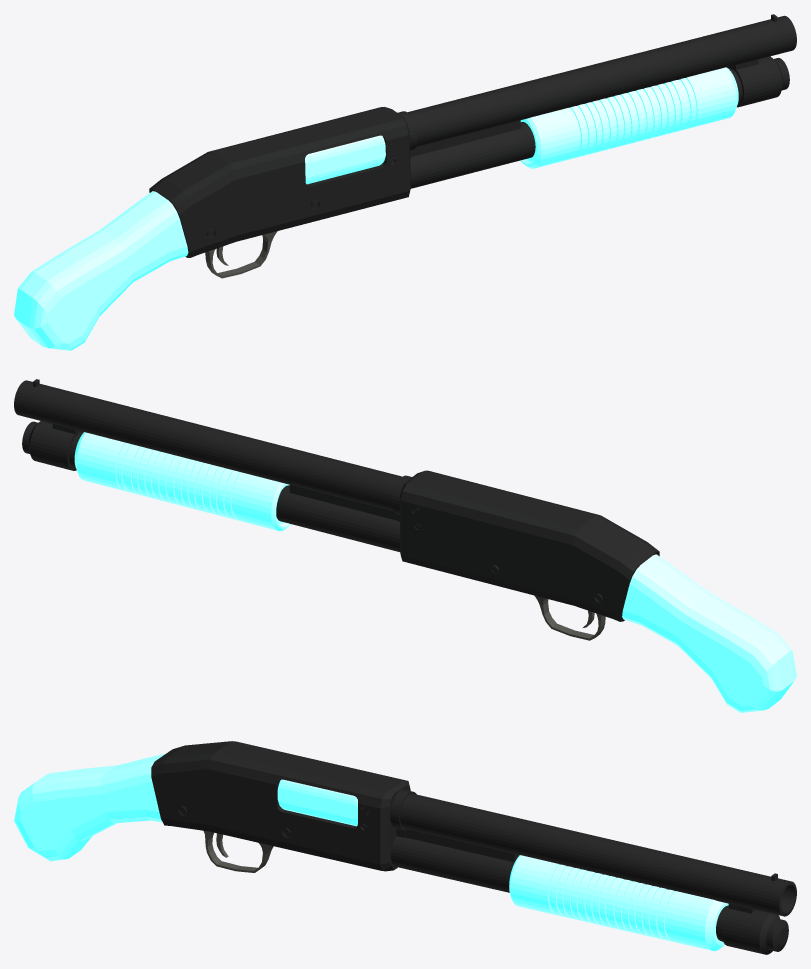
The model's file is gun.glb.
3 renders of one model, top to bottom at view 1: azimuth 30°, elevation 25°; view 2: azimuth 150°, elevation 25°; view 3: azimuth 330°, elevation 25°, orthographic.
Parts seen in each view (by area): view 1: shotgun; view 2: shotgun; view 3: shotgun.
Part boxes in pixels (<box>): shotgun: <box>14,14,796,350</box>; shotgun: <box>14,379,796,712</box>; shotgun: <box>14,741,796,954</box>.
Size of the model in its own units: 0.9681 by 0.1863 by 0.0684.
